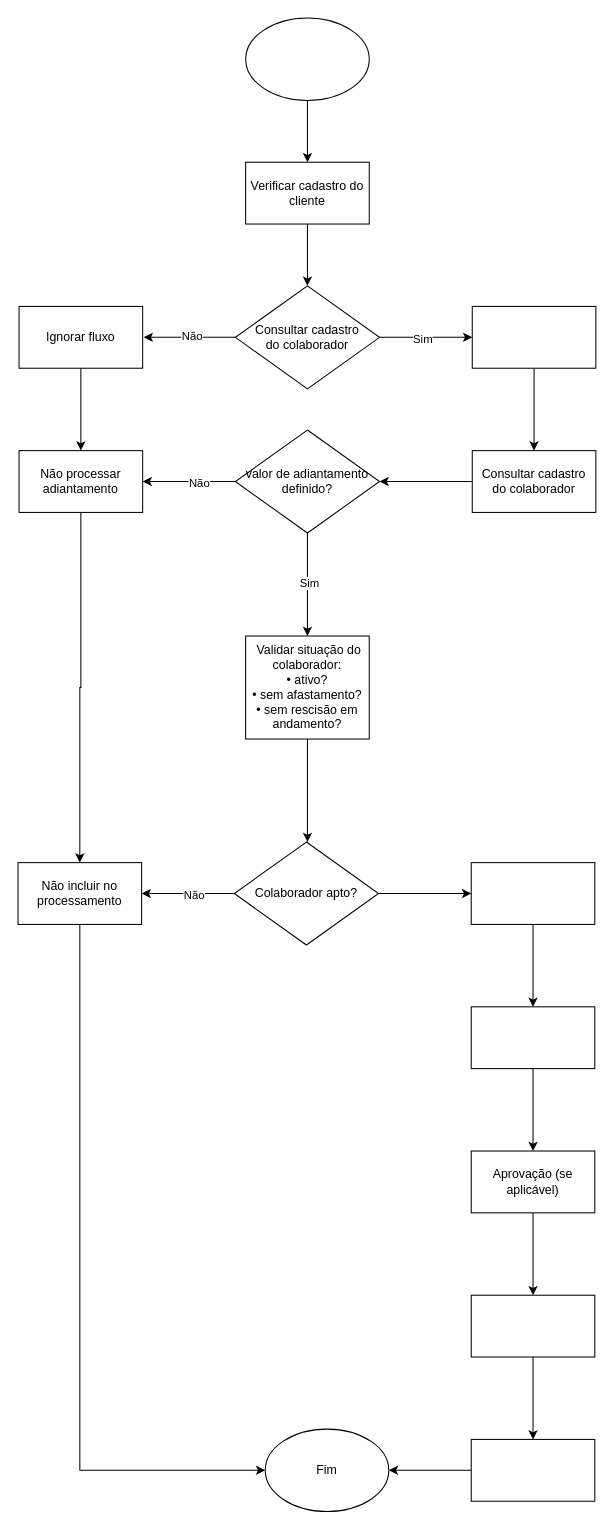
The diagram is 614 pixels wide and 1530 high, and some of its shapes have lost their labels. Here are the shapes that lost their labels. From the top down, the centre of each, then its label:
At point (307, 58): "Inicio (Rotina mensal)".
At point (533, 336): "Identificar colaboradores elegiveis".
At point (532, 893): "Gerar lista de adiantamento (Conforme cadastro)".
At point (532, 1037): "Conferência interna DP (valores x quantidade x cliente)".
At point (532, 1325): "Enviar para financeiro ou cliente realizar pagamento".
At point (532, 1469): "Anexar o recibo na pasta do cliente".
